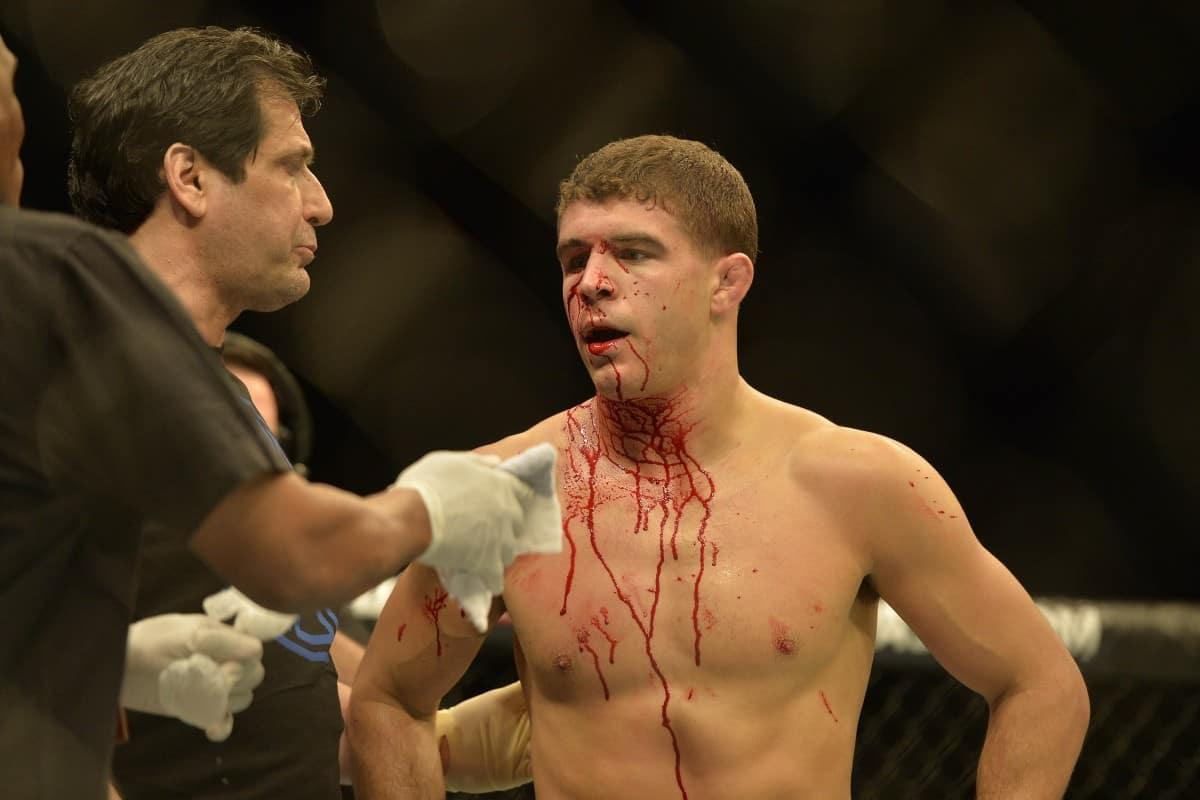Fire: (559, 382, 717, 800), (559, 207, 662, 398), (907, 456, 958, 522), (421, 586, 447, 658), (820, 691, 840, 724), (395, 620, 408, 644), (685, 687, 698, 702), (734, 596, 747, 610), (753, 568, 761, 576)
